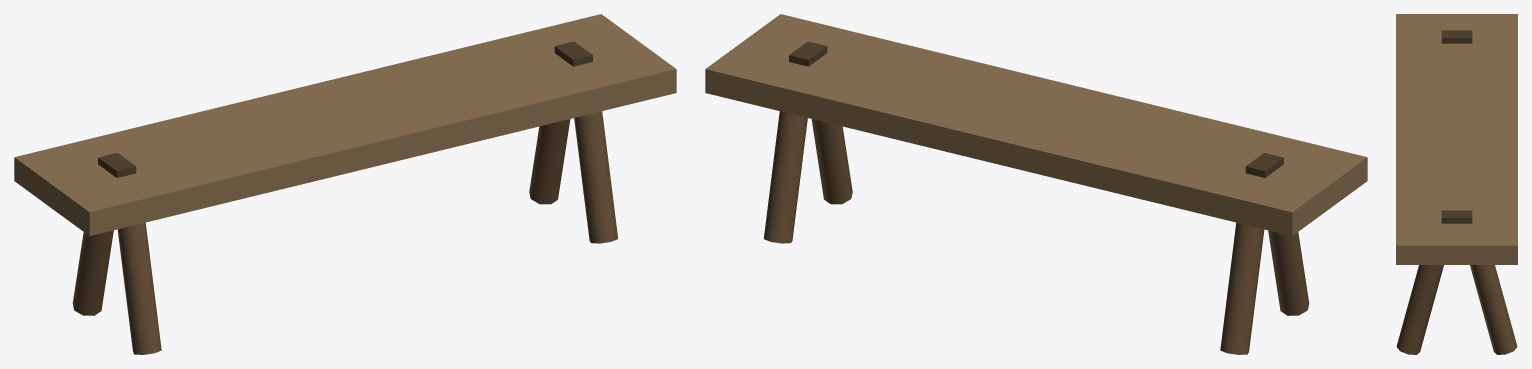
The model's file is lava.glb.
3 renders of one model, left to right at view 1: azimuth 30°, elevation 25°; view 2: azimuth 150°, elevation 25°; view 3: azimuth 270°, elevation 25°, orthographic. The views are drawn at different scales.
Parts seen in each view (by area): view 1: seat, leg (×4), peg (×2); view 2: seat, leg (×4), peg (×2); view 3: seat, leg (×2), peg (×2).
Part boxes in pixels (left/top/right/bottom): seat: left=14, top=14, right=676, bottom=235; leg (×4): left=72, top=111, right=618, bottom=354; peg (×2): left=98, top=41, right=592, bottom=177; seat: left=705, top=14, right=1367, bottom=235; leg (×4): left=763, top=111, right=1309, bottom=354; peg (×2): left=789, top=41, right=1283, bottom=177; seat: left=1396, top=14, right=1517, bottom=264; leg (×2): left=1396, top=265, right=1517, bottom=354; peg (×2): left=1441, top=30, right=1472, bottom=223.
Bounding box in the file's own units: 1.8 × 0.4997 × 0.4.
